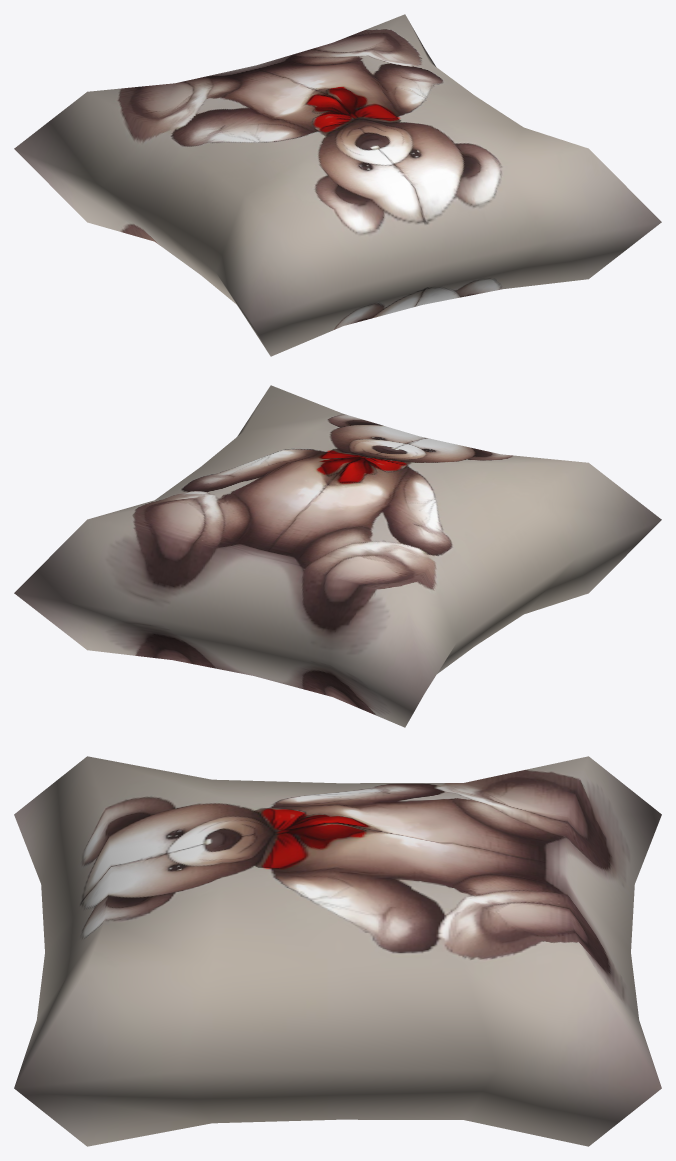
The model's file is pillow.fbx.
3 views of the same model, one above another, from view 1: azimuth 30°, elevation 25°; view 2: azimuth 150°, elevation 25°; view 3: azimuth 270°, elevation 25° (orthographic). The views are drawn at different scales.
Parts seen in each view (by area): view 1: Cube; view 2: Cube; view 3: Cube.
Part boxes in pixels (x1,y1,x2,y2): Cube: [14, 14, 661, 356]; Cube: [14, 385, 661, 727]; Cube: [14, 756, 661, 1146].
Size of the model in its own units: 766 by 310 by 766.
